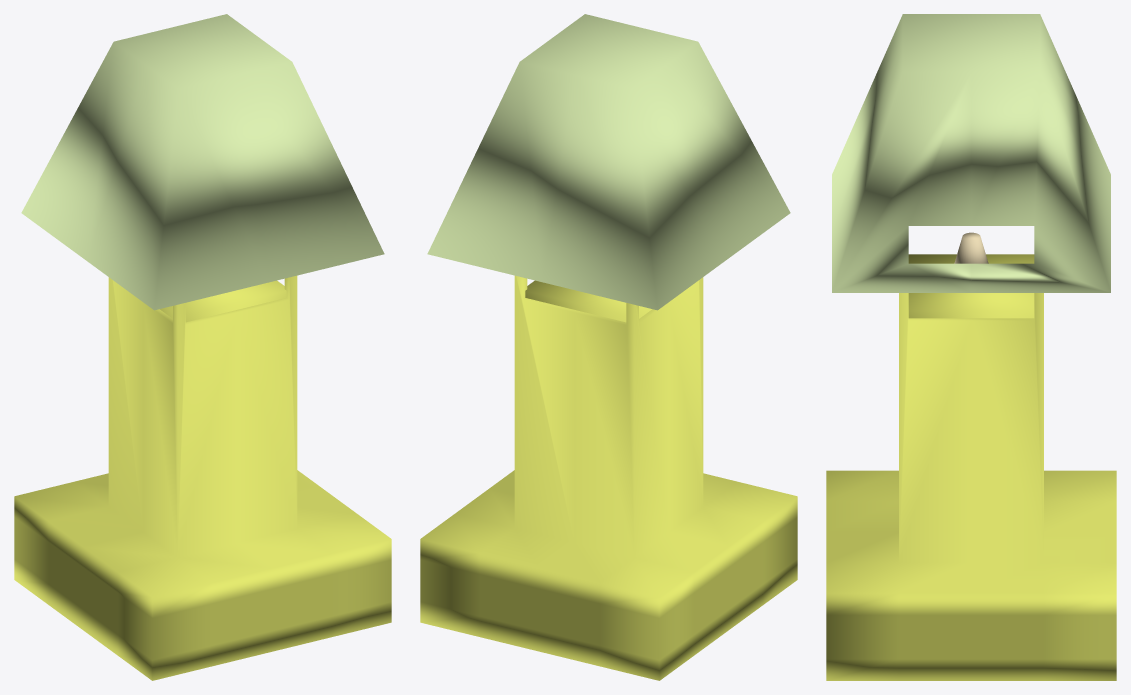
File: lamp.glb
The picture shows the model from 3 angles, left to right: view 1: azimuth 30°, elevation 25°; view 2: azimuth 150°, elevation 25°; view 3: azimuth 270°, elevation 25°; orthographic projection. The views are drawn at different scales.
Visible parts, largest first — view 1: Cube, Cube.001; view 2: Cube, Cube.001; view 3: Cube, Cube.001, Cylinder.
Part boxes in pixels (x1,y1,x2,y2): Cube: [14, 14, 391, 680]; Cube.001: [160, 280, 286, 322]; Cube: [420, 14, 797, 680]; Cube.001: [525, 280, 651, 322]; Cube: [826, 14, 1116, 680]; Cube.001: [908, 254, 1034, 318]; Cylinder: [954, 232, 988, 263].
Size of the model in its own units: 0.8846 by 1.94 by 0.8846.
